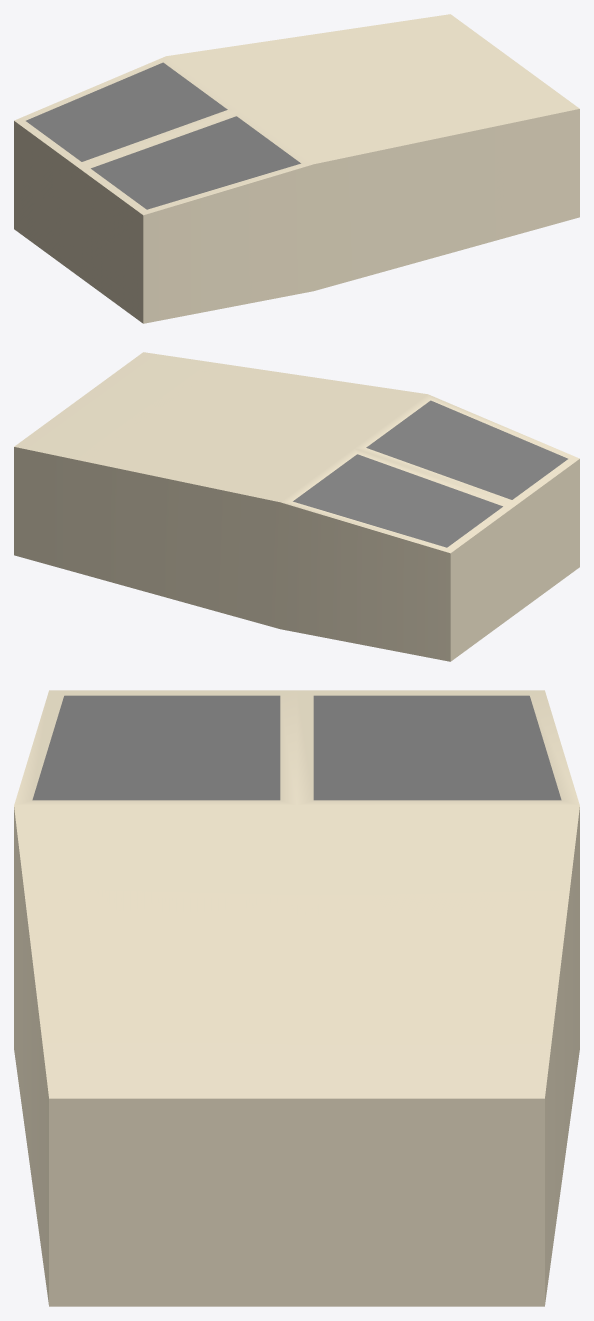
The model's file is Computer_Mouse.fbx.
3 views of the same model, one above another, from view 1: azimuth 30°, elevation 25°; view 2: azimuth 150°, elevation 25°; view 3: azimuth 270°, elevation 25° (orthographic). The views are drawn at different scales.
Visible parts, largest first — view 1: Mouse; view 2: Mouse; view 3: Mouse.
Part boxes in pixels (x1=…): Mouse: x1=14, y1=14, x2=579, y2=323; Mouse: x1=14, y1=352, x2=579, y2=661; Mouse: x1=14, y1=690, x2=579, y2=1306.
Bounding box in the file's own units: 11.6 × 3.22 × 6.8.
